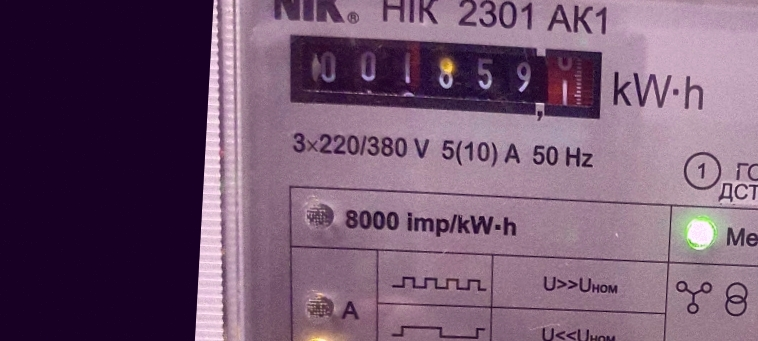0: (317, 47, 338, 84), (356, 47, 377, 82)
1: (400, 48, 413, 84), (556, 75, 570, 106)
5: (473, 54, 495, 90)
8: (434, 53, 456, 89)
9: (512, 58, 532, 93)
screen: (274, 21, 614, 129)
